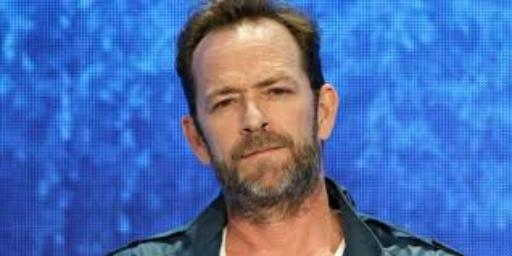left_eye: (264, 85, 298, 99)
left_lip_corner: (276, 142, 286, 151)
right_eye: (209, 97, 241, 113)
right_lip_corner: (241, 153, 255, 162)
